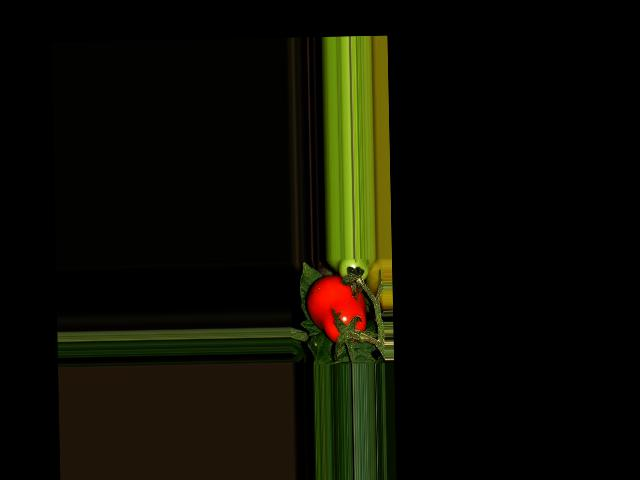tomato: (306, 274, 366, 344)
